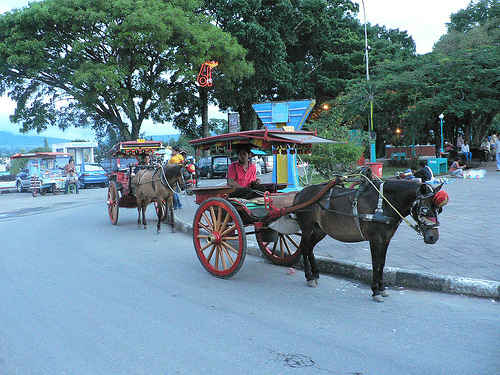horse: (289, 172, 450, 305), (130, 158, 195, 235)
